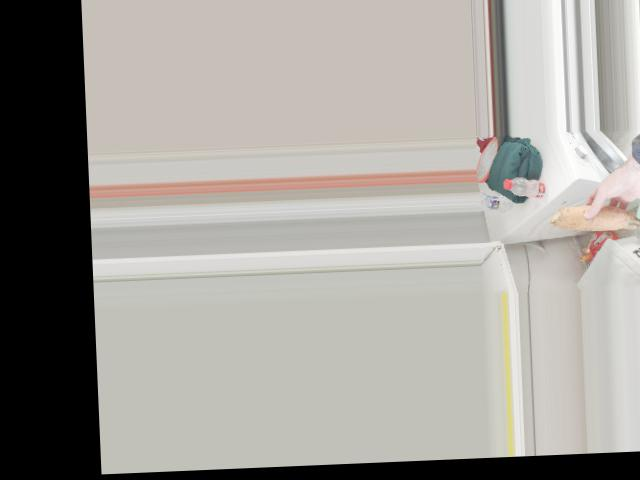sweet_potato: (557, 198, 640, 234)
